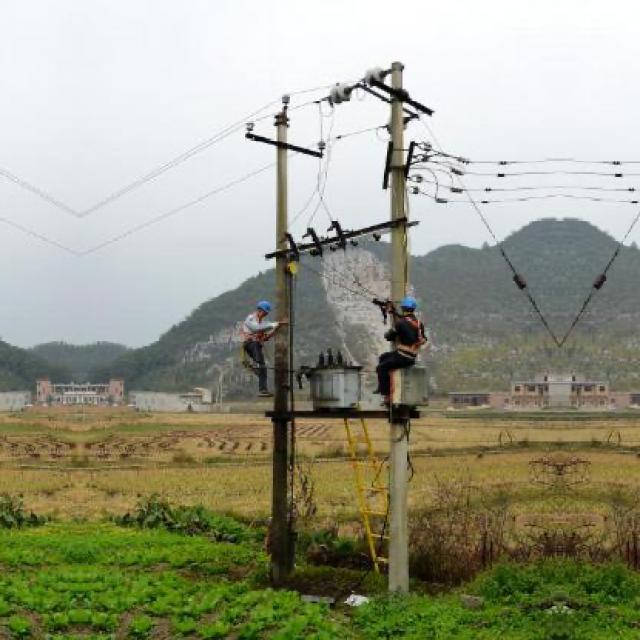helmet: (247, 297, 274, 321), (398, 294, 422, 317)
